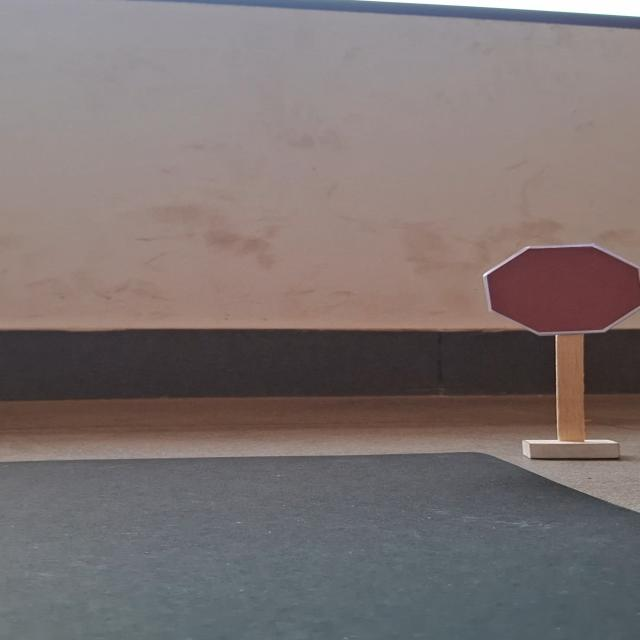Stop: (478, 241, 640, 338)
